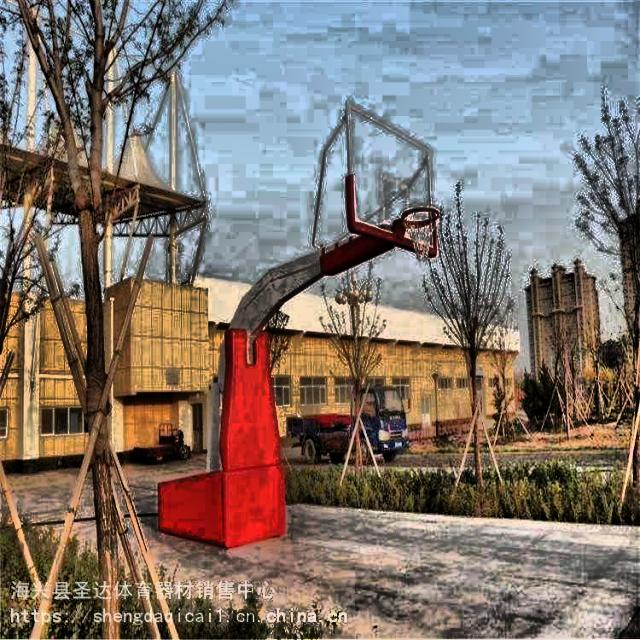rim: (402, 207, 438, 259)
